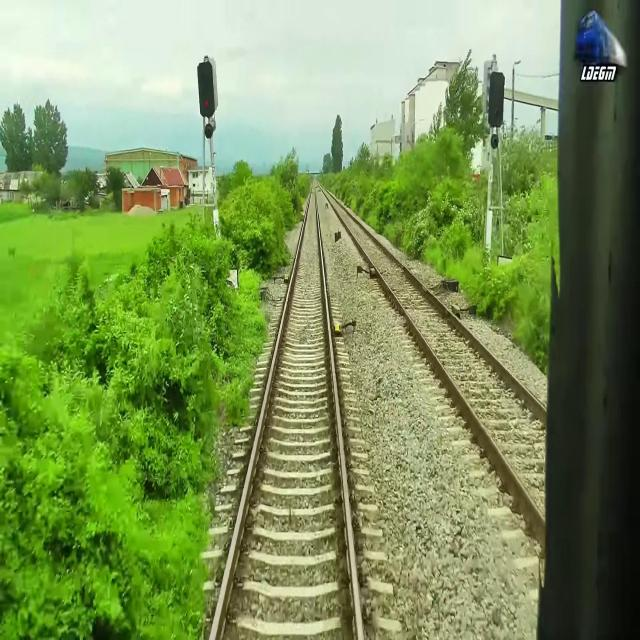rail-track: (317, 181, 545, 511), (214, 181, 358, 639)
